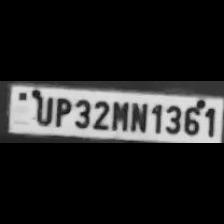1: (200, 104, 218, 138), (148, 100, 162, 134)
2: (90, 97, 110, 130)
3: (72, 96, 90, 128), (163, 102, 181, 134)
6: (182, 102, 200, 136)
M: (110, 98, 128, 132)
N: (128, 100, 148, 132)
P: (51, 95, 71, 127)
U: (31, 93, 51, 126)
